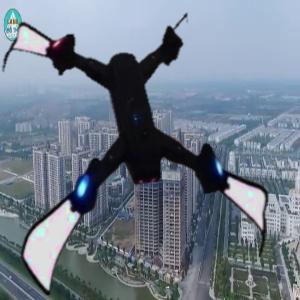drone: (1, 11, 285, 295)
